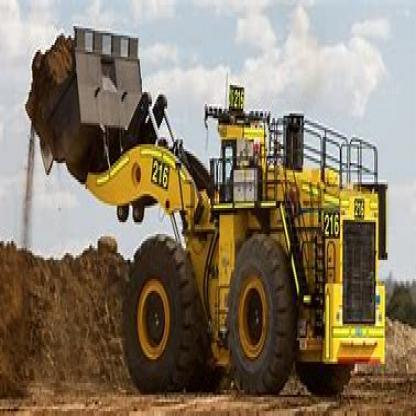bull_dozer/loader/grader: (17, 17, 393, 414)
